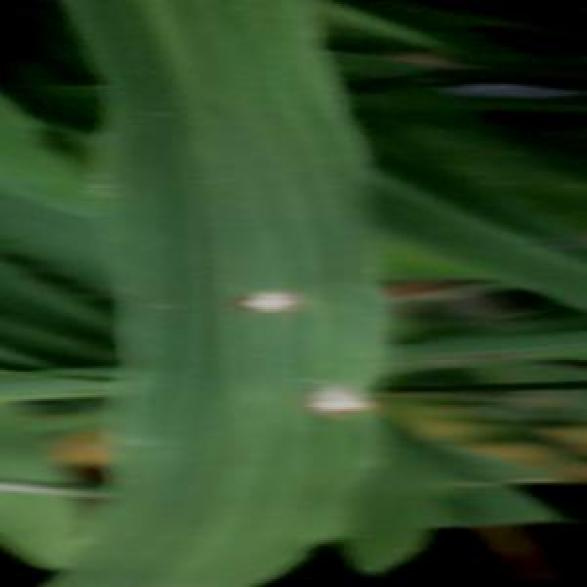Leaf_smut: (284, 372, 401, 454), (219, 250, 315, 332)
